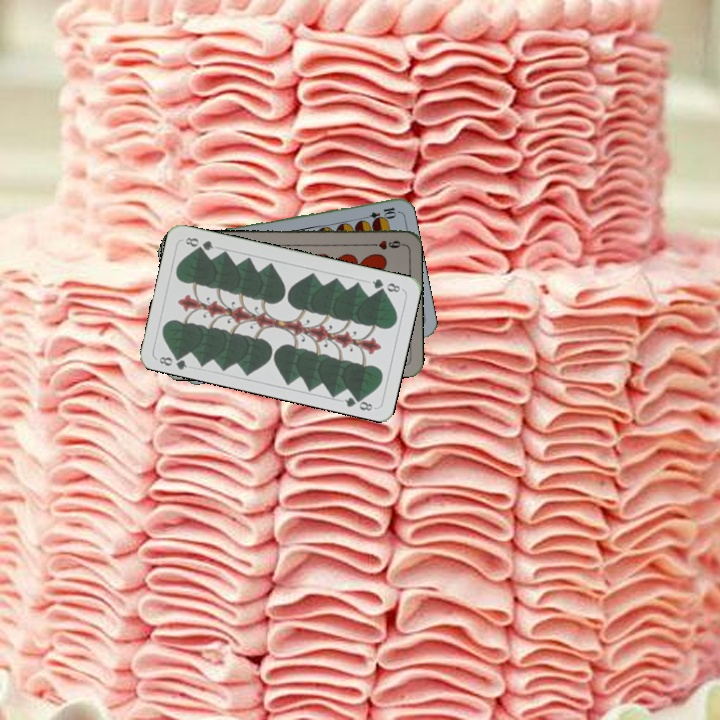E10: (358, 203, 399, 223)
G8: (155, 349, 190, 372), (368, 274, 405, 295)
H9: (365, 236, 405, 252)
